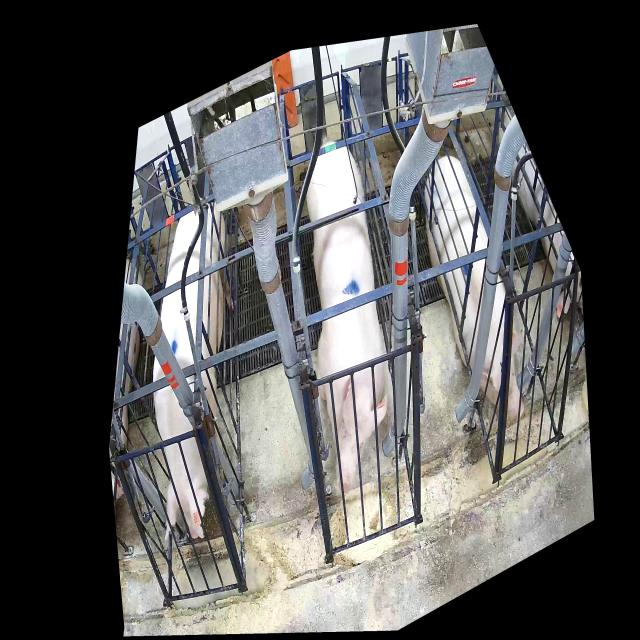pig: (307, 146, 387, 492), (153, 201, 235, 538), (425, 156, 524, 418)
